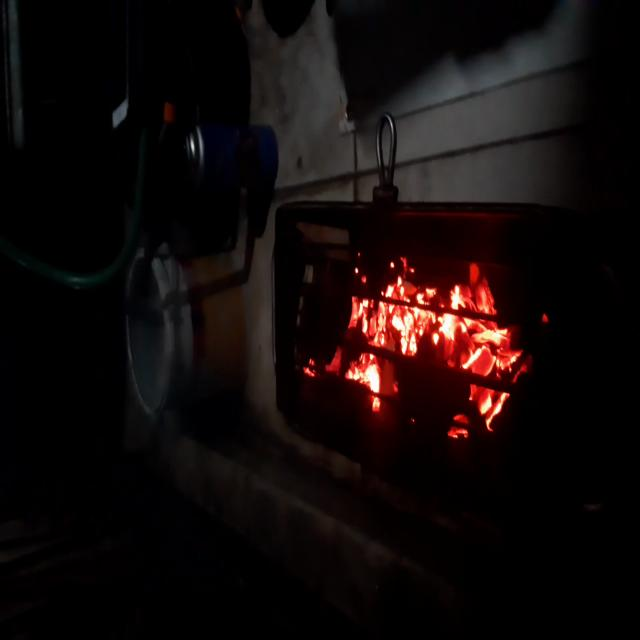Fire: (298, 244, 536, 458)
